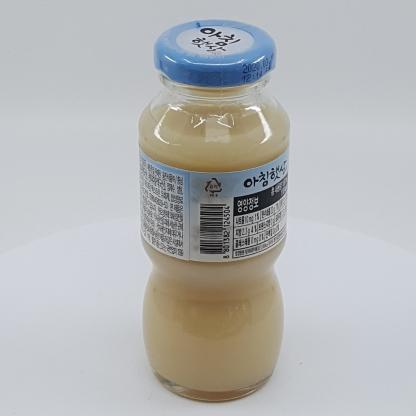------180ML: (138, 19, 290, 401)
